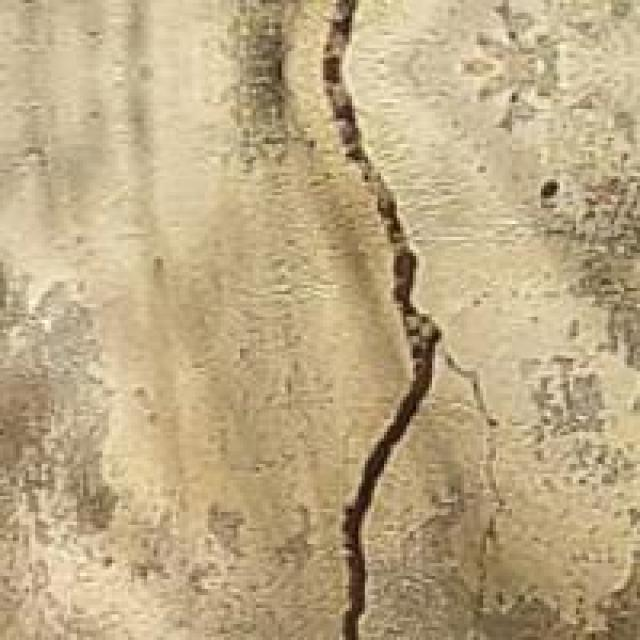crack: (297, 0, 508, 637)
